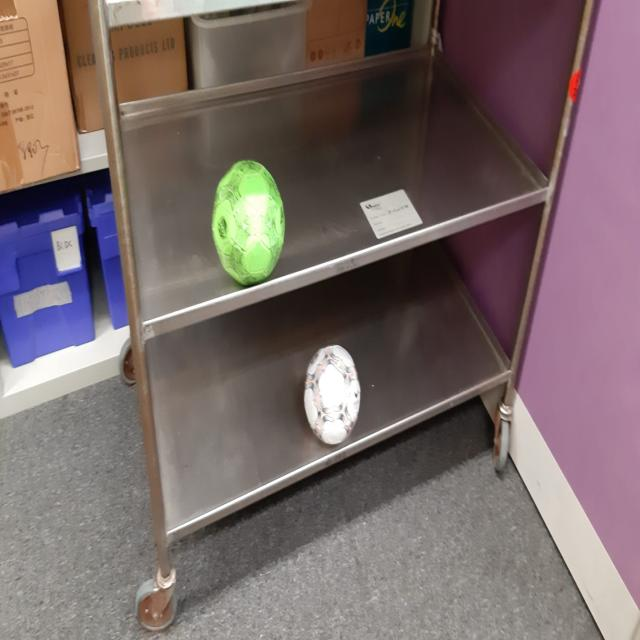ball: (213, 158, 286, 288), (303, 346, 361, 446)
